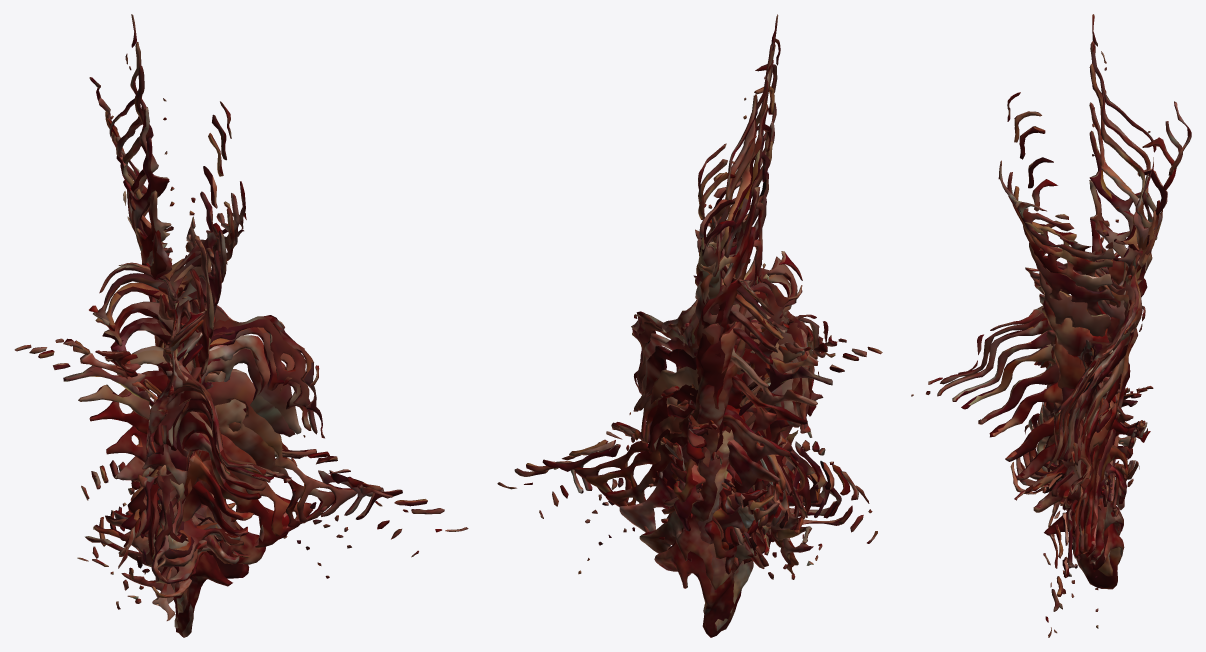
File: Blood_11.fbx
The picture shows the model from 3 angles, left to right: view 1: azimuth 30°, elevation 25°; view 2: azimuth 150°, elevation 25°; view 3: azimuth 270°, elevation 25°; orthographic projection. The views are drawn at different scales.
Visible parts, largest first — view 1: LOD_1_Group_9_Sub_1__phong1, LOD_1_Group_7_Sub_1__phong1, LOD_1_Group_5_Sub_1__phong1, LOD_1_Group_8_Sub_1__phong1, LOD_1_Group_10_Sub_1__phong1, LOD_1_Group_6_Sub_1__phong1, LOD_1_Group_4_Sub_1__phong1, LOD_1_Group_3_Sub_1__phong1, LOD_1_Group_2_Sub_1__phong1, LOD_1_Group_11_Sub_1__phong1, LOD_1_Group_0_Sub_1__phong1, LOD_1_Group_1_Sub_1__phong1; view 2: LOD_1_Group_9_Sub_1__phong1, LOD_1_Group_5_Sub_1__phong1, LOD_1_Group_7_Sub_1__phong1, LOD_1_Group_8_Sub_1__phong1, LOD_1_Group_6_Sub_1__phong1, LOD_1_Group_4_Sub_1__phong1, LOD_1_Group_3_Sub_1__phong1, LOD_1_Group_2_Sub_1__phong1, LOD_1_Group_10_Sub_1__phong1, LOD_1_Group_1_Sub_1__phong1, LOD_1_Group_0_Sub_1__phong1, LOD_1_Group_11_Sub_1__phong1; view 3: LOD_1_Group_8_Sub_1__phong1, LOD_1_Group_7_Sub_1__phong1, LOD_1_Group_9_Sub_1__phong1, LOD_1_Group_6_Sub_1__phong1, LOD_1_Group_5_Sub_1__phong1, LOD_1_Group_4_Sub_1__phong1, LOD_1_Group_10_Sub_1__phong1, LOD_1_Group_3_Sub_1__phong1, LOD_1_Group_2_Sub_1__phong1, LOD_1_Group_0_Sub_1__phong1, LOD_1_Group_1_Sub_1__phong1, LOD_1_Group_11_Sub_1__phong1.
Boxes of the visible parts, x1,y1,x2,y2 form: LOD_1_Group_9_Sub_1__phong1: (29,42,444,603); LOD_1_Group_7_Sub_1__phong1: (53,107,402,572); LOD_1_Group_5_Sub_1__phong1: (78,190,357,561); LOD_1_Group_8_Sub_1__phong1: (38,65,427,589); LOD_1_Group_10_Sub_1__phong1: (14,14,468,609); LOD_1_Group_6_Sub_1__phong1: (63,137,383,563); LOD_1_Group_4_Sub_1__phong1: (89,230,334,555); LOD_1_Group_3_Sub_1__phong1: (106,293,313,536); LOD_1_Group_2_Sub_1__phong1: (116,343,289,569); LOD_1_Group_11_Sub_1__phong1: (105,167,319,620); LOD_1_Group_0_Sub_1__phong1: (171,542,249,637); LOD_1_Group_1_Sub_1__phong1: (174,492,265,628); LOD_1_Group_9_Sub_1__phong1: (514,44,866,579); LOD_1_Group_5_Sub_1__phong1: (574,187,817,555); LOD_1_Group_7_Sub_1__phong1: (542,104,844,557); LOD_1_Group_8_Sub_1__phong1: (526,67,858,569); LOD_1_Group_6_Sub_1__phong1: (555,136,832,555); LOD_1_Group_4_Sub_1__phong1: (585,226,807,549); LOD_1_Group_3_Sub_1__phong1: (604,305,790,566); LOD_1_Group_2_Sub_1__phong1: (619,339,780,574); LOD_1_Group_10_Sub_1__phong1: (497,14,882,564); LOD_1_Group_1_Sub_1__phong1: (639,426,769,631); LOD_1_Group_0_Sub_1__phong1: (654,472,764,637); LOD_1_Group_11_Sub_1__phong1: (631,216,847,574); LOD_1_Group_8_Sub_1__phong1: (937,63,1176,611); LOD_1_Group_7_Sub_1__phong1: (952,102,1167,589); LOD_1_Group_9_Sub_1__phong1: (926,41,1182,628); LOD_1_Group_6_Sub_1__phong1: (961,130,1162,579); LOD_1_Group_5_Sub_1__phong1: (978,180,1152,564); LOD_1_Group_4_Sub_1__phong1: (989,218,1147,558); LOD_1_Group_10_Sub_1__phong1: (911,14,1191,637); LOD_1_Group_3_Sub_1__phong1: (1005,328,1137,553); LOD_1_Group_2_Sub_1__phong1: (1016,363,1130,557); LOD_1_Group_0_Sub_1__phong1: (1044,490,1124,589); LOD_1_Group_1_Sub_1__phong1: (1033,435,1123,576); LOD_1_Group_11_Sub_1__phong1: (1010,188,1157,527).
Size of the model in its own units: 0.0718 by 0.1039 by 0.0479.
